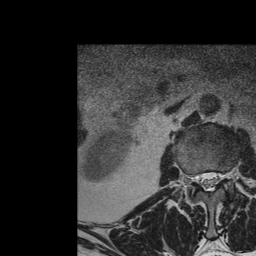CCS_normal: (204, 162, 212, 197)
LFS_normal: (220, 164, 227, 186)
LLS_normal: (212, 163, 219, 193)
RFS_normal: (188, 166, 196, 189)
RLS_normal: (196, 165, 204, 192)
